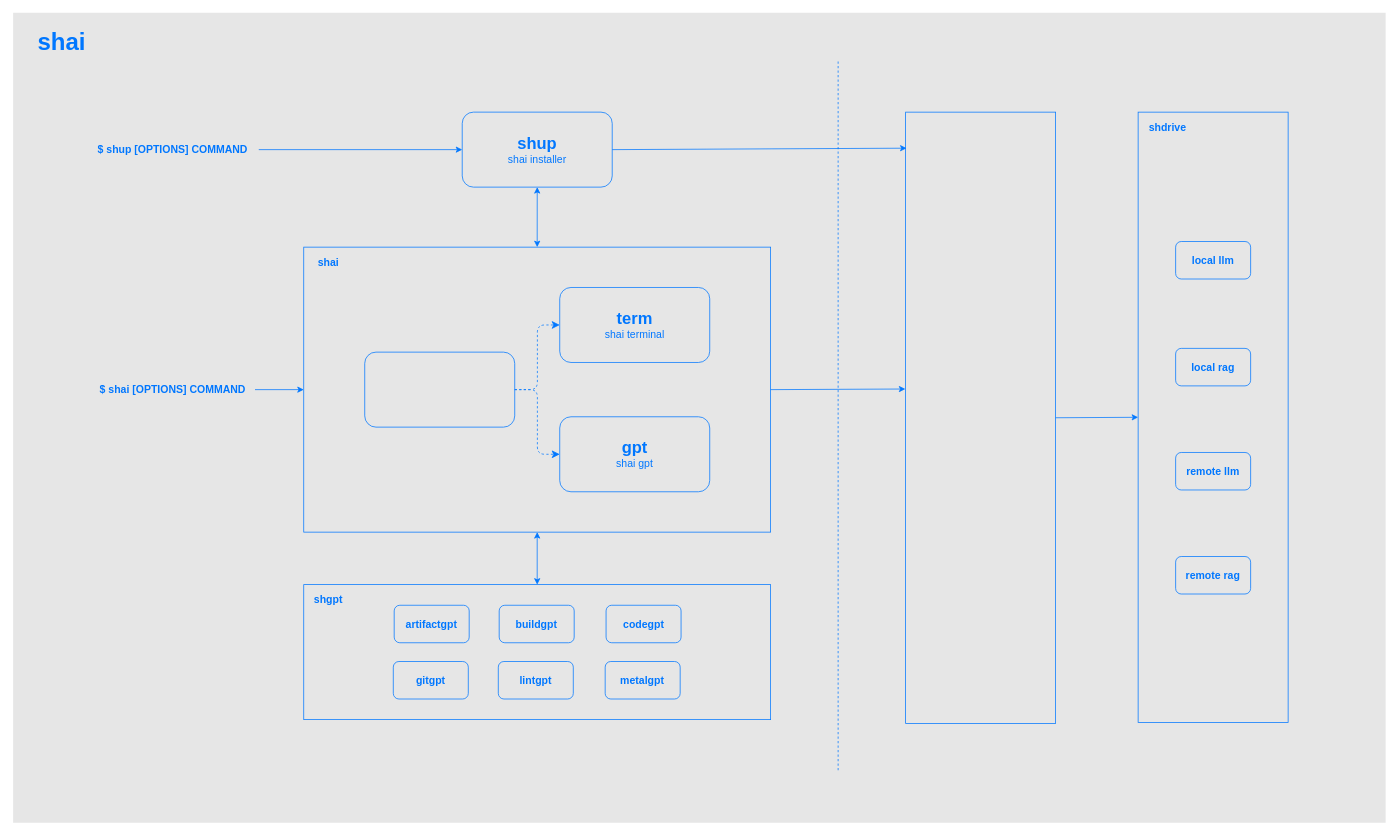
Image size: 1398x836. Some labels were removed from this diagram. The shapes that lost their labels are listed below. From the top down, each one's centre as x and y in pixels, then its label:
At point 439,389: "shai shell with ai".
At point 980,417: "shdrive shai server & proxy".
